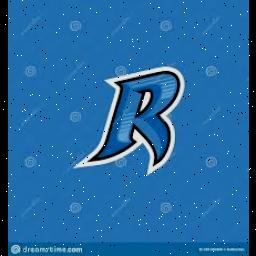r: (76, 55, 186, 185)
